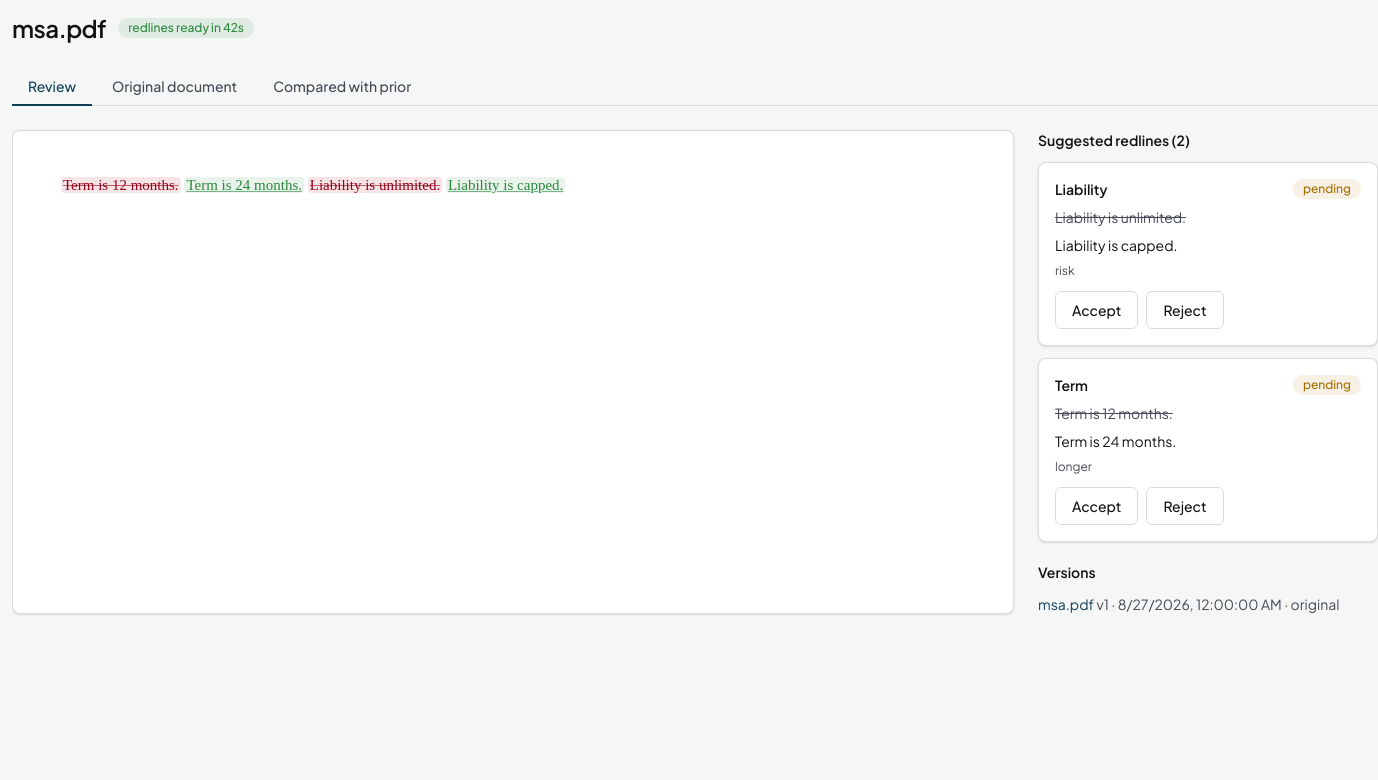
Scenario: accept stages locally and confirm sends one batch with all decisions
The width and height of the screenshot is (1378, 780).
Step 1. Click the button "Accept" below "risk" → (1097, 310), box [1055,291,1138,329]
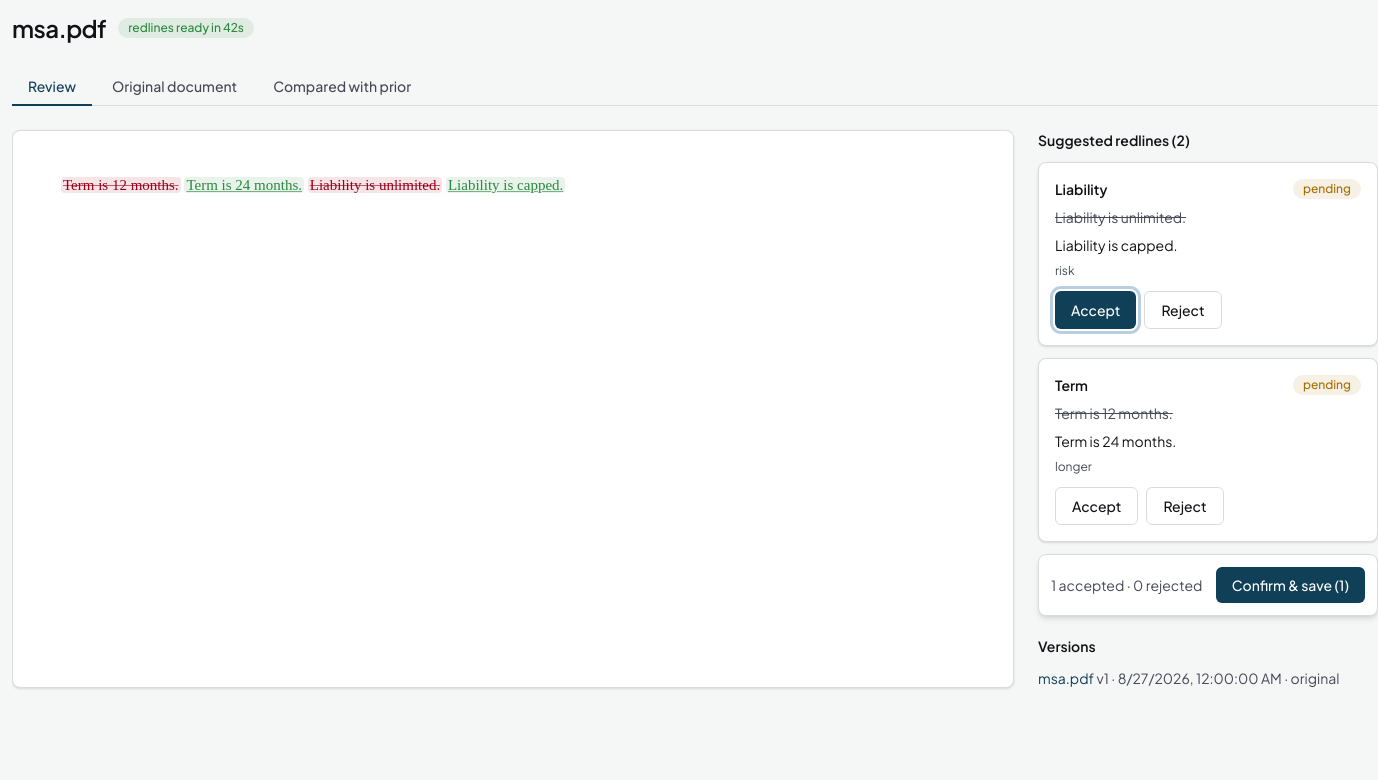
Step 2. Click the button "Reject" below "longer" → (1185, 506), box [1146,487,1224,525]
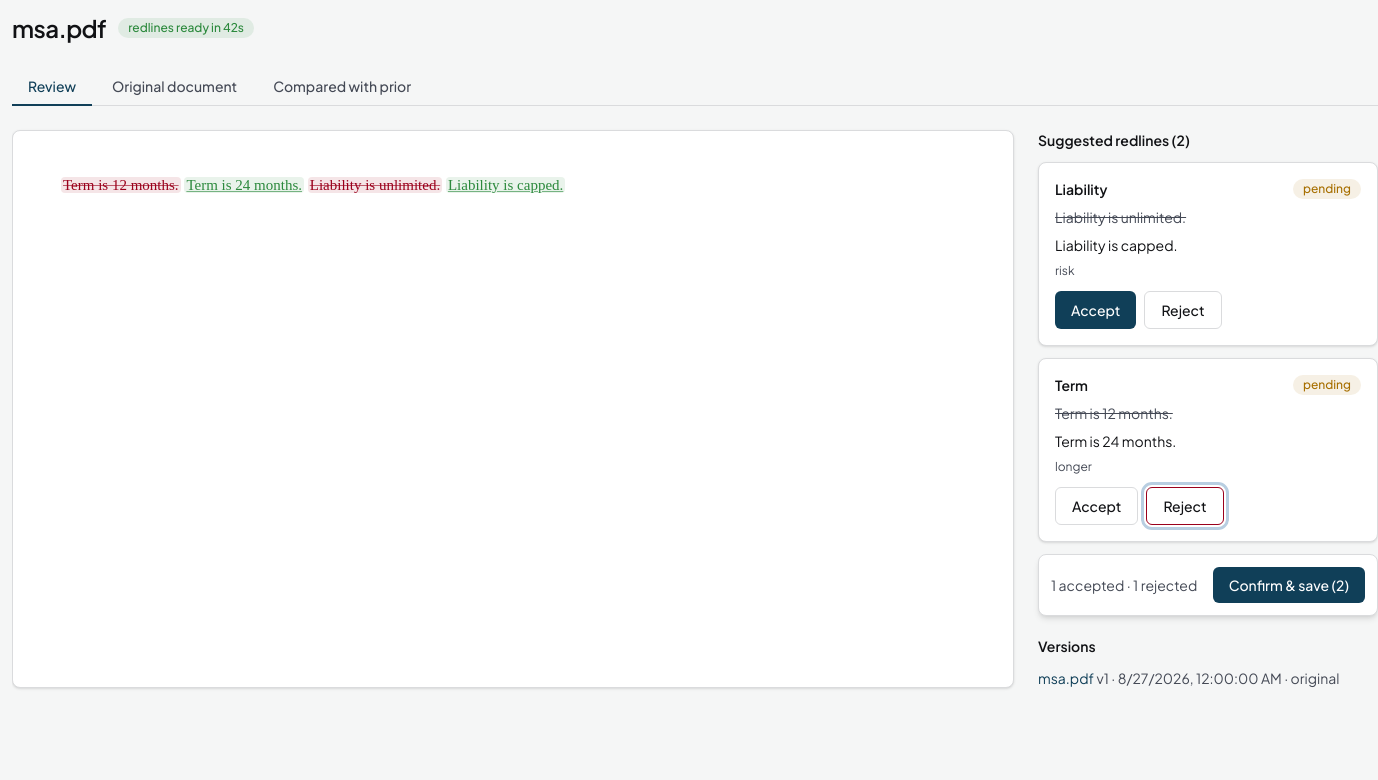
Step 3. Click the button "Confirm & save (2)" → (1289, 585), box [1213,567,1365,603]
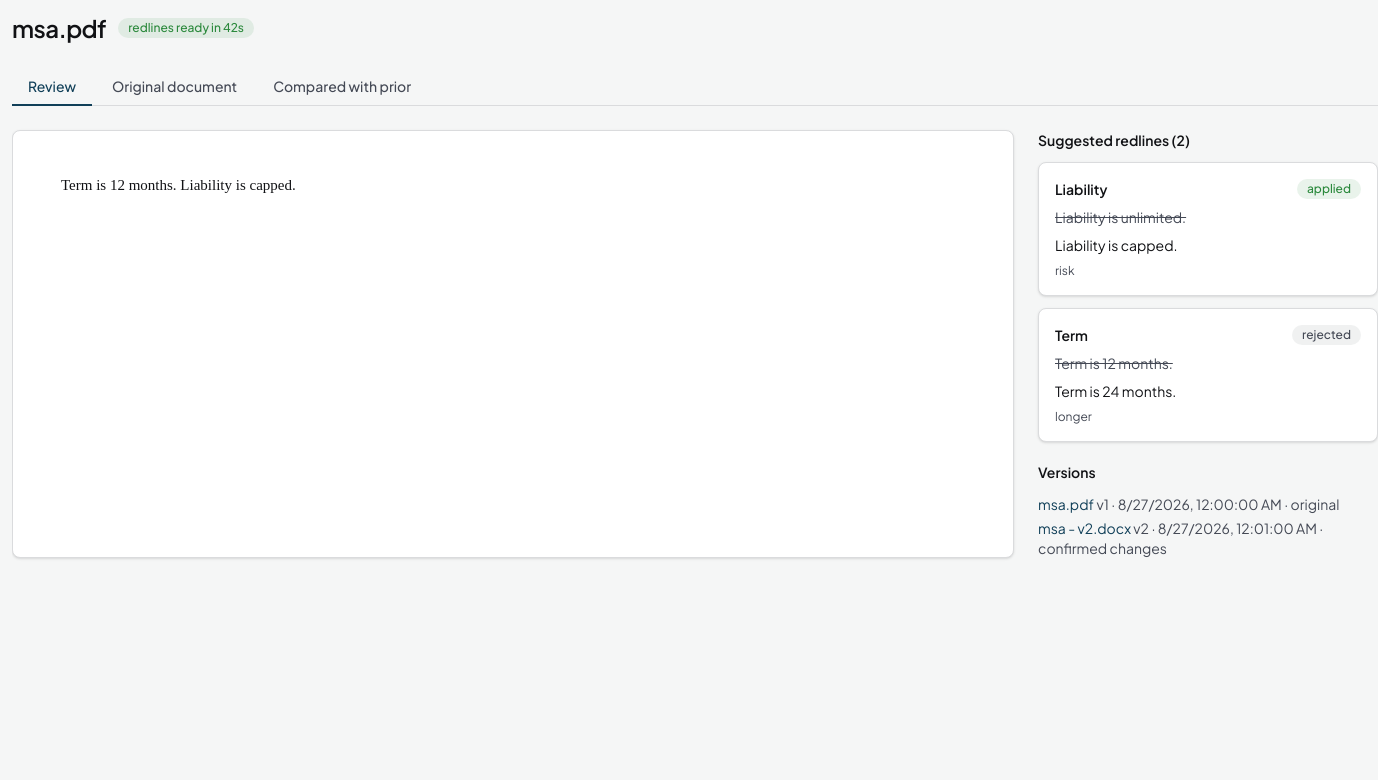
Expected: the text "applied" is shown, [1297,179,1361,199]
Expected: the link "msa - v2.docx" is shown, [1038,519,1131,537]
